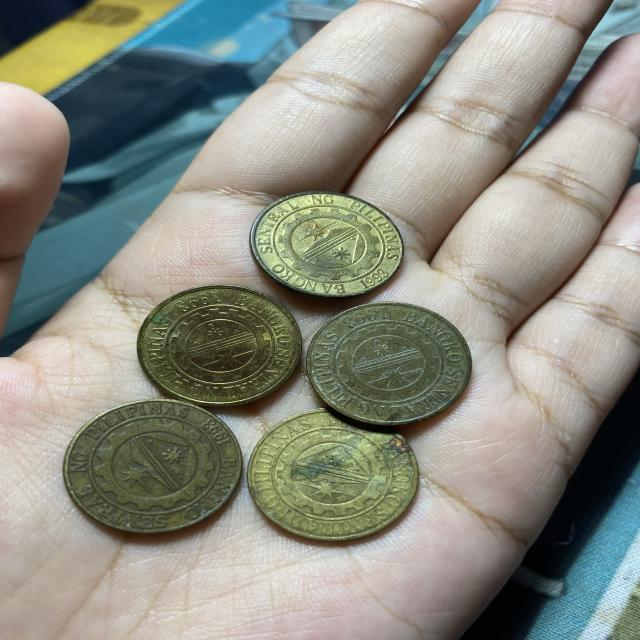25Cent_Old_Back: (64, 402, 237, 531), (311, 300, 479, 423), (252, 417, 432, 531), (141, 286, 296, 402), (252, 196, 407, 293)
